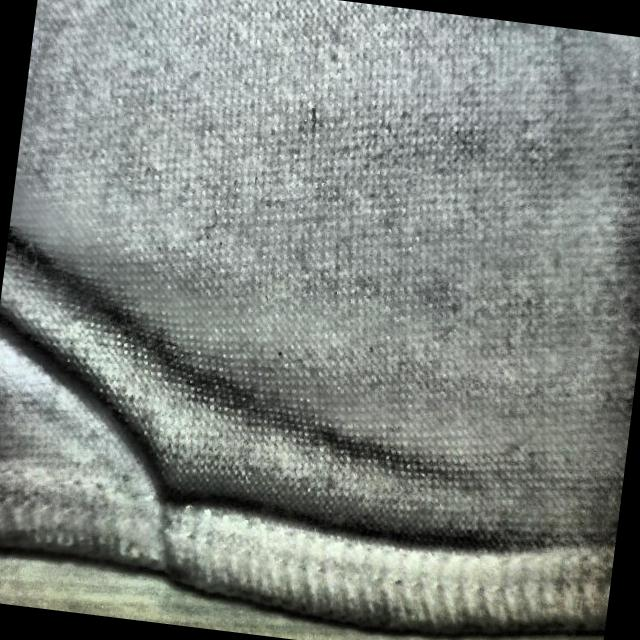gray stitch: (78, 373, 296, 601)
